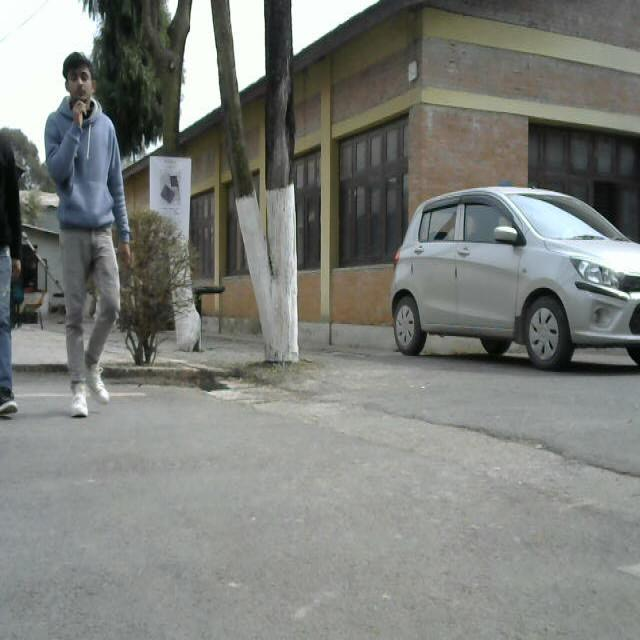Car: (392, 190, 636, 381)
Road: (13, 396, 640, 640), (45, 50, 129, 415)
trees: (208, 0, 355, 361)
